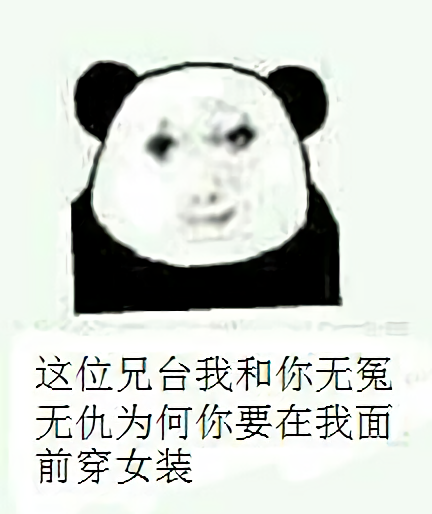dragon: (142, 110, 260, 229)
